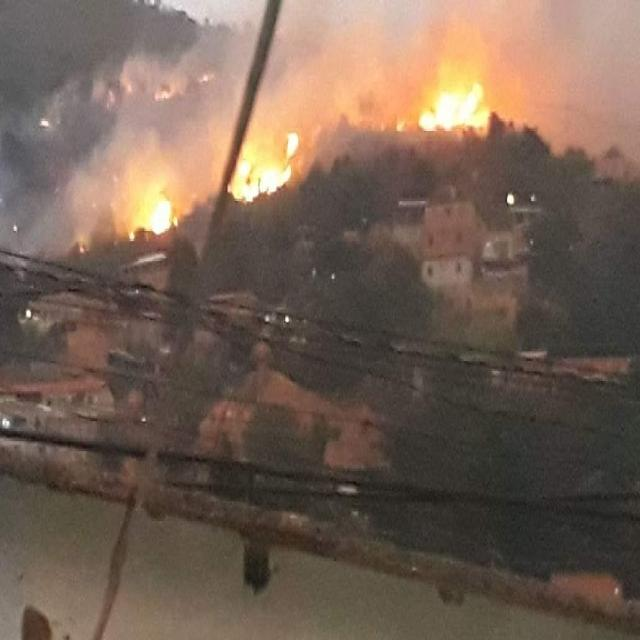Fire: (227, 132, 303, 202), (417, 80, 487, 136), (130, 192, 174, 236)
